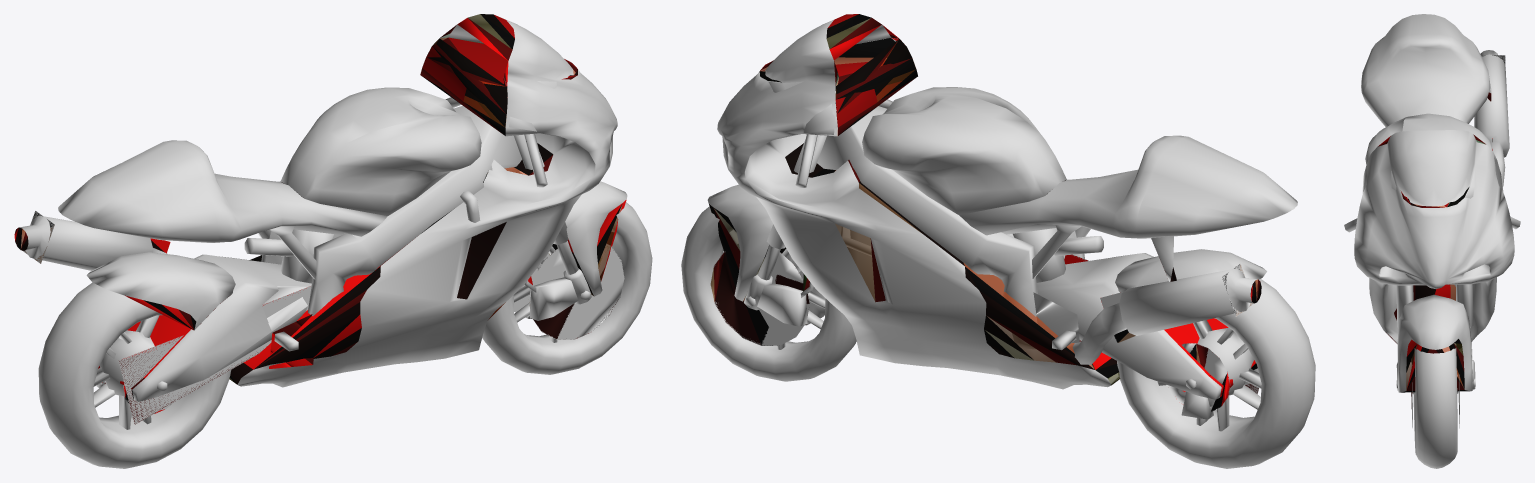
3 views of the same model, side by side, from view 1: azimuth 30°, elevation 25°; view 2: azimuth 150°, elevation 25°; view 3: azimuth 270°, elevation 25° (orthographic). The views are drawn at different scales.
Size of the model in its own units: 1.9 by 1.08 by 0.5664.
